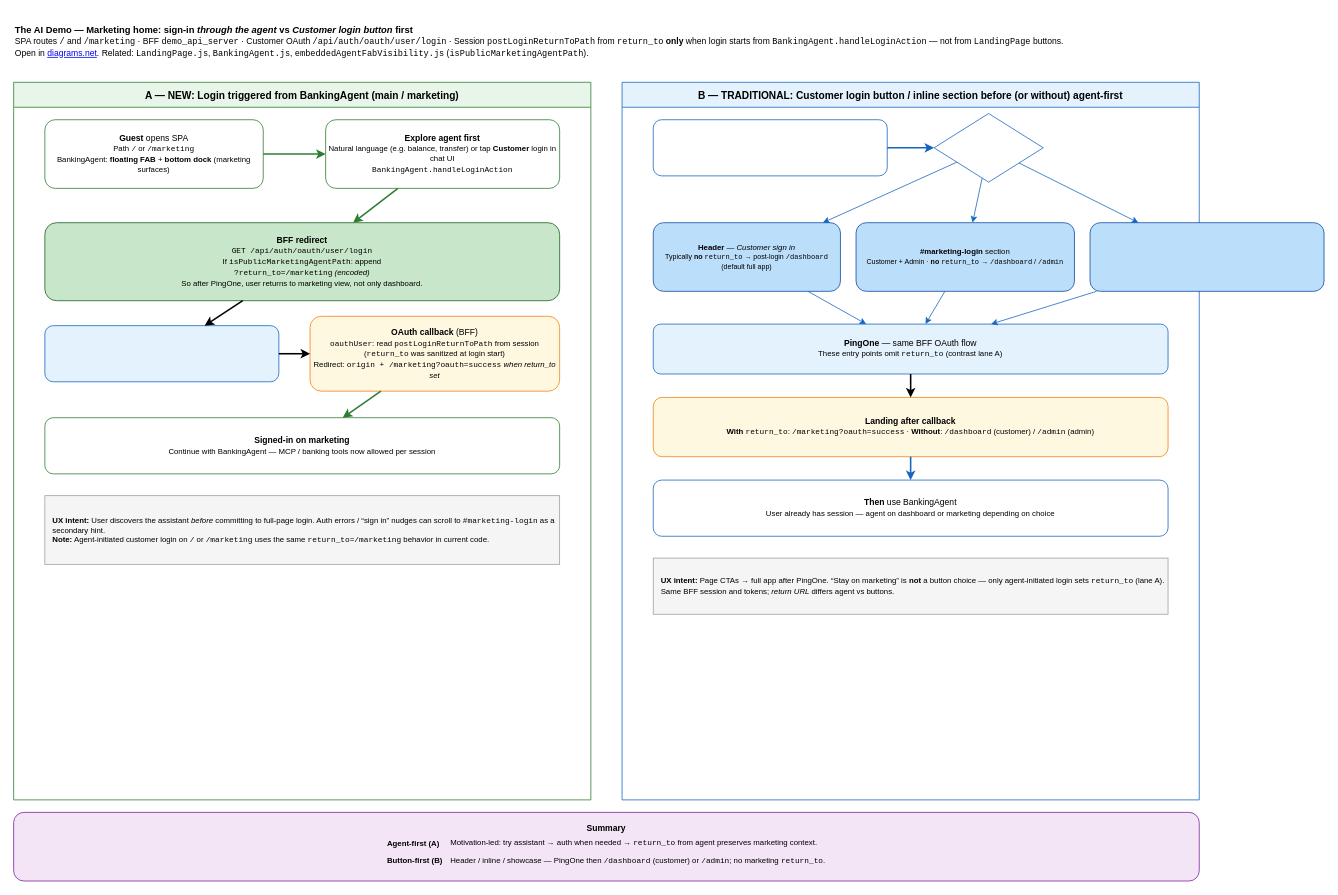
Image size: 1338x895. Some labels were removed from this diagram. The shapes that lost their labels are listed below. From the top down, each one's centre as x and y in pixels, then its label:
At point 769,147: "Guest on marketing UI LandingPage — hero, features, showcase".
At point 988,147: "Where user clicks?".
At point 1206,256: "Showcase demo card Same as other page buttons — no return_to (dashboard / admin)".
At point 161,353: "PingOne — OIDC + PKCE (BFF-managed) End user authenticates".
